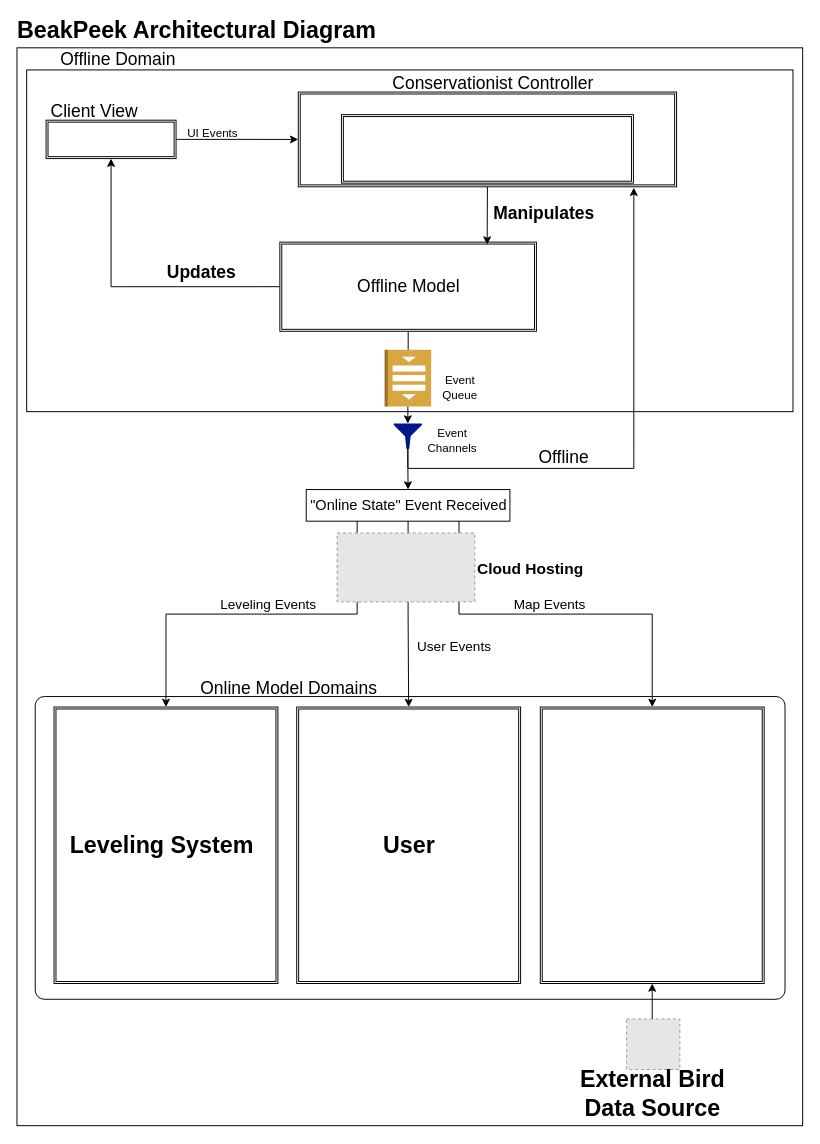
This 820x1144 diagram has some shape labels left out. Grey dashed boxes stand in for pictures. Each missing label, with the centre of its shape:
"Birder Controller" belongs at pixel 486 148.
"Southern Africa Bird Map" belongs at pixel 651 844.
